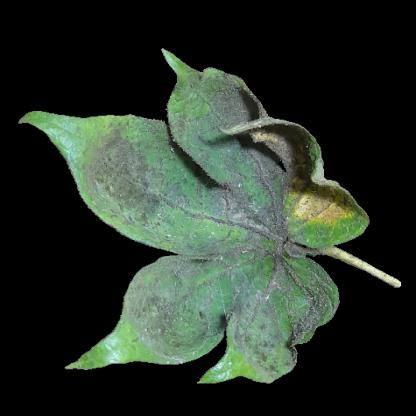curl_stage1: (303, 191, 351, 225)
sooty: (175, 92, 289, 334), (80, 129, 170, 236), (129, 281, 183, 354)
